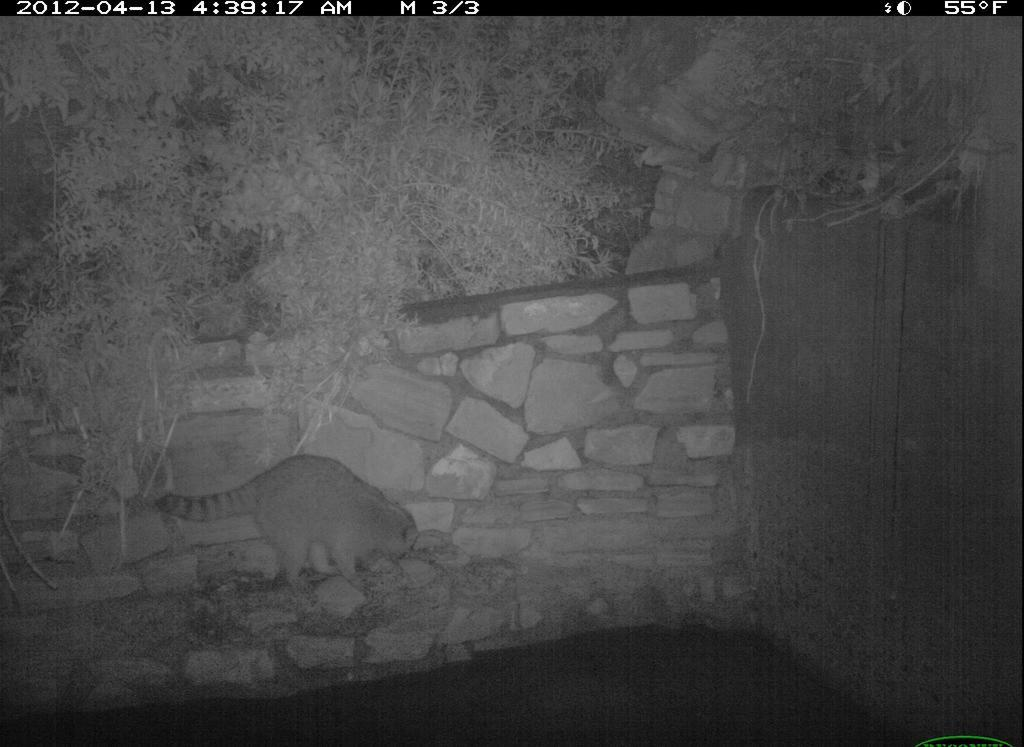raccoon: (143, 452, 423, 606)
